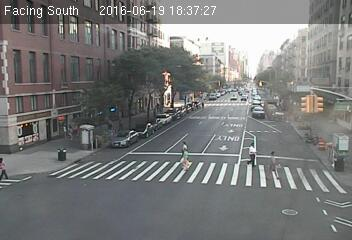neg: (16, 54, 41, 87), (183, 86, 205, 115), (175, 193, 197, 222), (233, 74, 253, 101), (306, 144, 326, 169), (100, 68, 119, 94), (305, 87, 324, 112), (121, 190, 140, 215), (55, 174, 74, 199), (281, 196, 298, 219), (190, 28, 206, 50), (154, 70, 169, 90), (284, 44, 298, 63), (57, 144, 71, 161), (79, 131, 92, 149)
pos: (262, 146, 286, 179), (240, 139, 262, 168), (176, 141, 195, 167)
